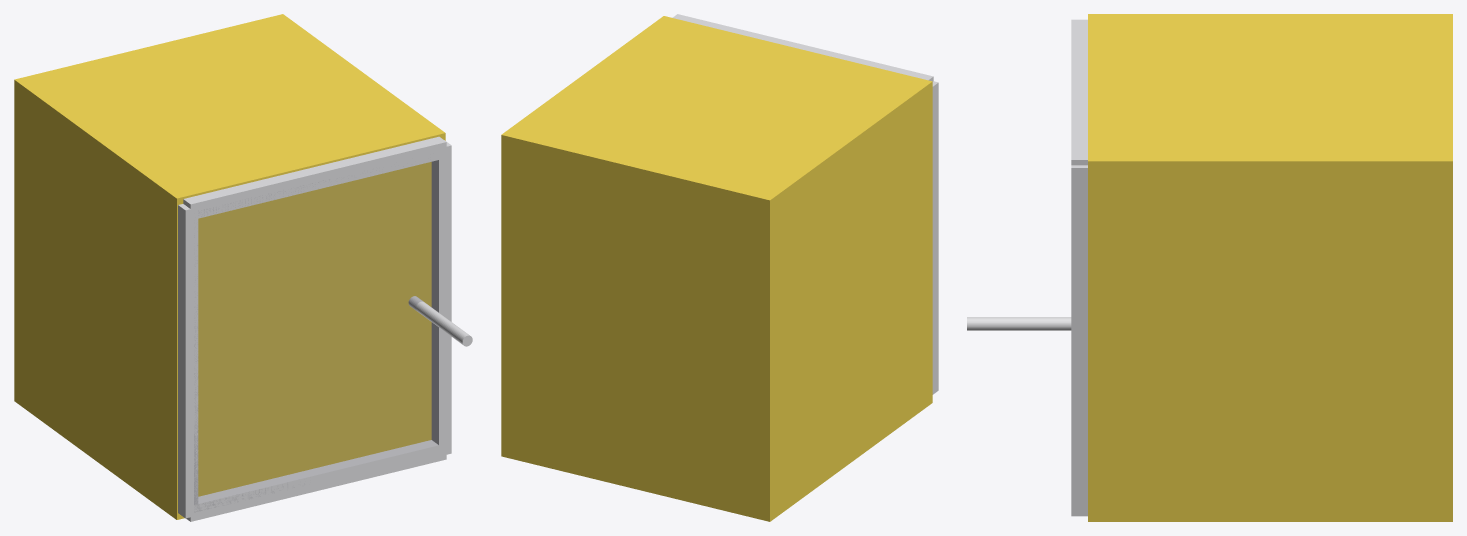
Rendered from MiniFridge_v5_wine_cooler.fbx.
3 views of the same model, side by side, from view 1: azimuth 30°, elevation 25°; view 2: azimuth 150°, elevation 25°; view 3: azimuth 270°, elevation 25° (orthographic). The views are drawn at different scales.
Parts seen in each view (by area): view 1: Shelf2; view 2: Shelf2; view 3: Shelf2.
Part boxes in pixels (x1,y1,x2,y2): Shelf2: [14, 14, 472, 521]; Shelf2: [501, 14, 938, 521]; Shelf2: [967, 14, 1452, 521].
Size of the model in its own units: 0.42 by 0.48 by 0.586.
